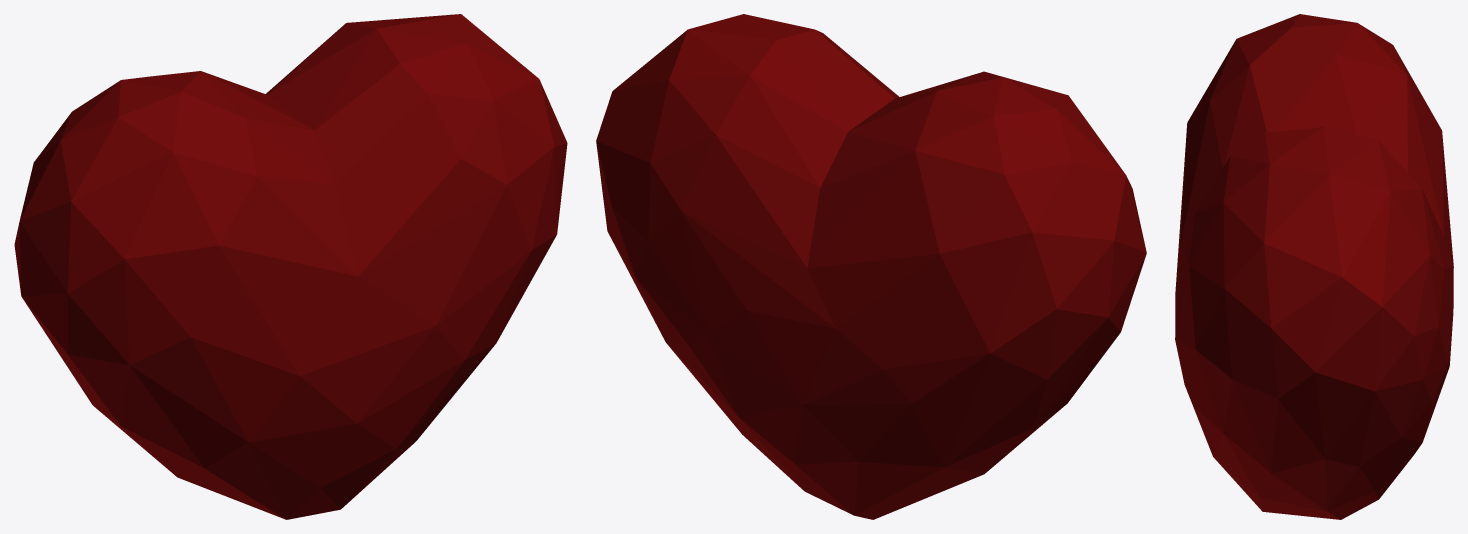
Rendered from Heart.fbx.glb.
3 renders of one model, left to right at view 1: azimuth 30°, elevation 25°; view 2: azimuth 150°, elevation 25°; view 3: azimuth 270°, elevation 25°, orthographic. The views are drawn at different scales.
Parts seen in each view (by area): view 1: Love.1; view 2: Love.1; view 3: Love.1.
Boxes of the visible parts, x1,y1,x2,y2 form: Love.1: [14, 14, 567, 519]; Love.1: [596, 14, 1146, 519]; Love.1: [1175, 14, 1453, 519].
Size of the model in its own units: 80.33 by 67.16 by 39.58.
